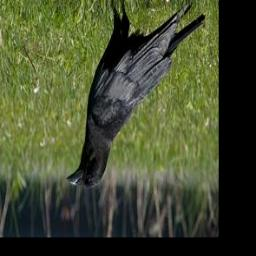Crow: (65, 0, 207, 190)
